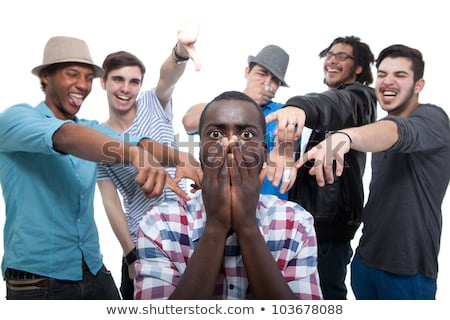bad: (371, 65, 415, 108), (103, 70, 146, 113), (55, 60, 98, 103), (317, 46, 353, 82)
